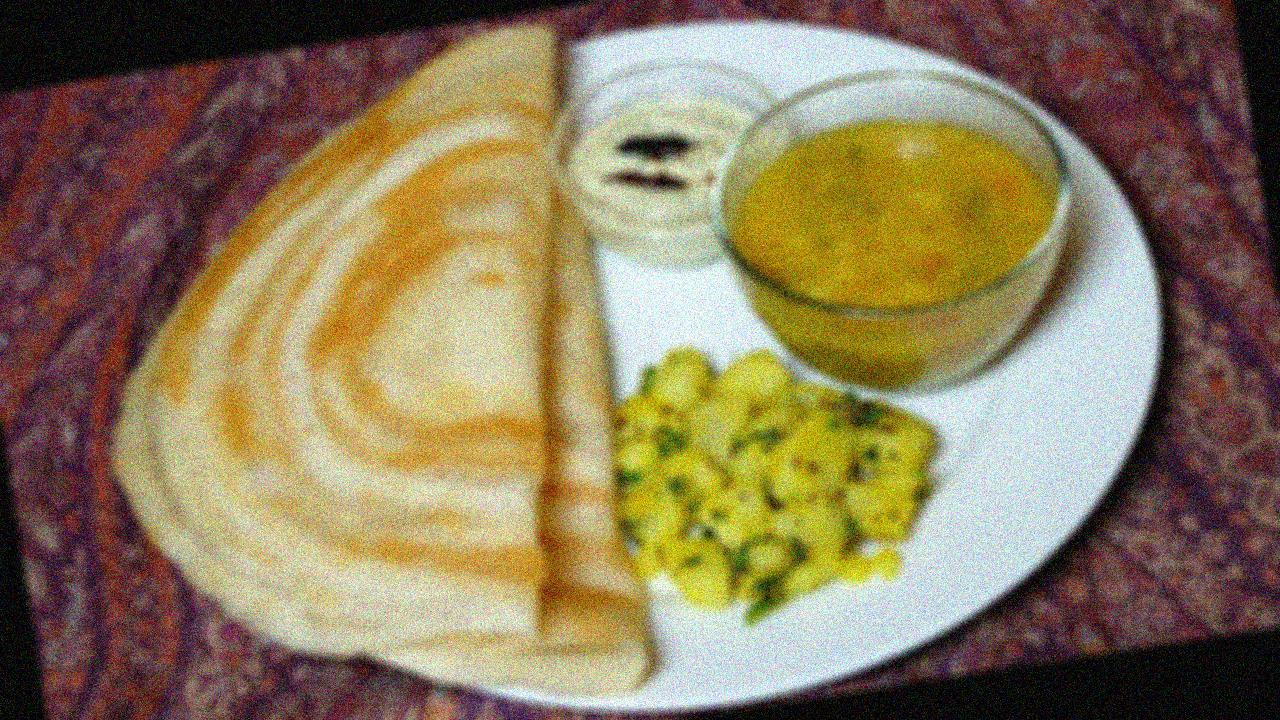dosa: (104, 22, 655, 697)
